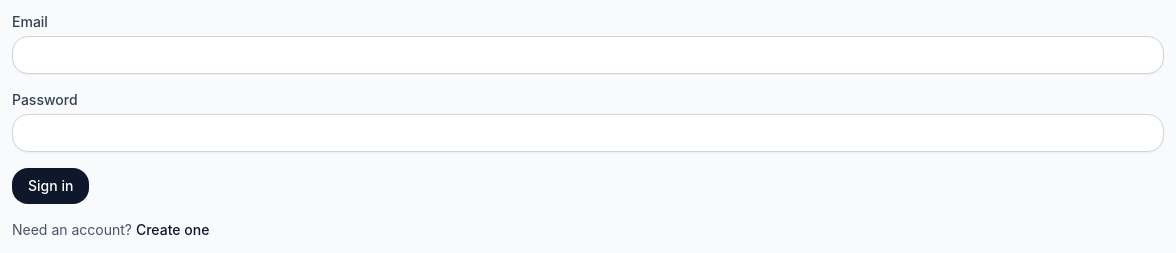
it: LoginForm validation › disables submit while request is in flight
In the field labelled "Email": (588, 55) [12,36,1164,74], type "buyer@example.com"
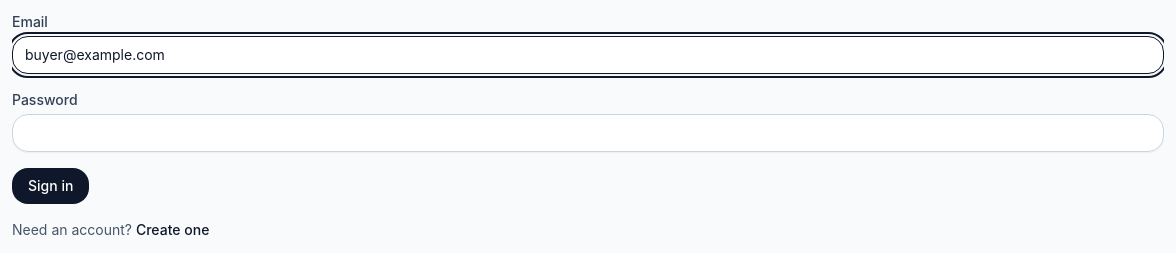
In the password field labelled "Password": (588, 133) [12,114,1164,152], type "secret123"
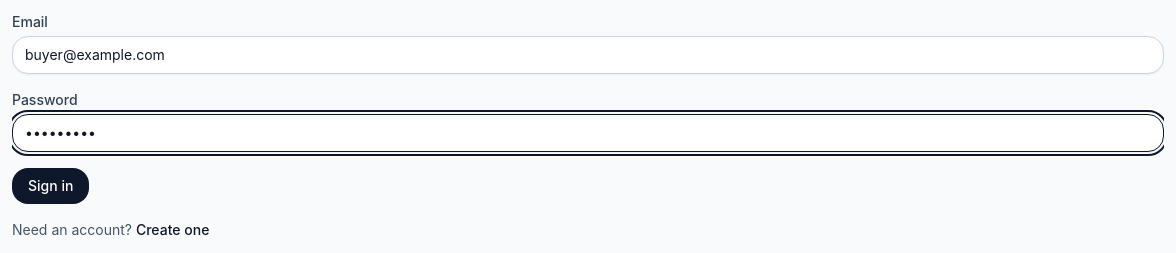
Click the button "Sign in": click(51, 186) [12,168,89,204]
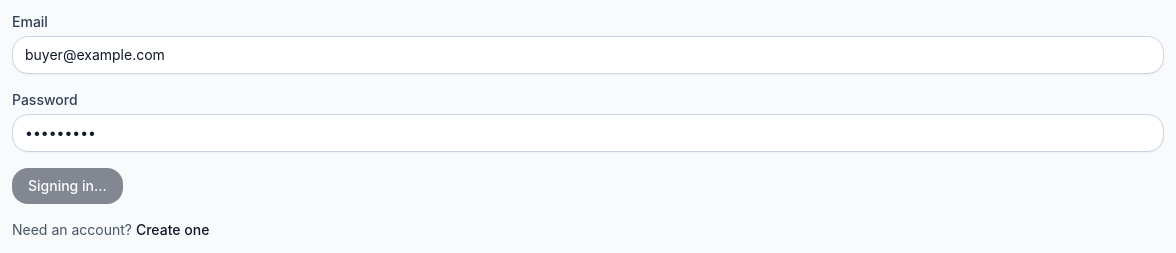
Check: the button "Signing in…" is disabled, box [12,168,123,204]
